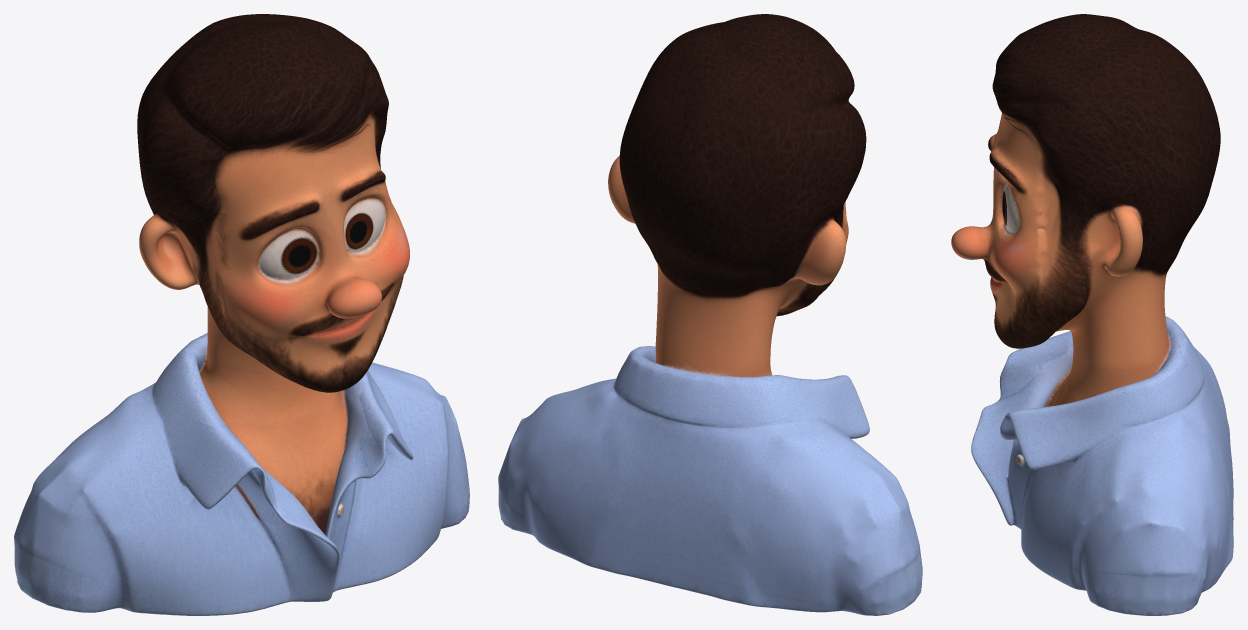
File: mohammad-character.fbx
3 views of the same model, side by side, from view 1: azimuth 30°, elevation 25°; view 2: azimuth 150°, elevation 25°; view 3: azimuth 270°, elevation 25° (orthographic). The views are drawn at different scales.
Parts seen in each view (by area): view 1: Shirt_Torso, Head_Face, Hair_SweptCap, Shirt_Collar, Neck_and_Chest, Ear_Left, Eye_Left_Surface, Eye_Right_Surface, Beard_and_Moustache, Eyebrows; view 2: Shirt_Torso, Hair_SweptCap, Head_Face, Shirt_Collar, Neck_and_Chest, Ear_Left; view 3: Shirt_Torso, Hair_SweptCap, Head_Face, Shirt_Collar, Ear_Right, Neck_and_Chest, Eye_Right_Surface.
Boxes of the visible parts, <box> form: Shirt_Torso: <box>14,362,469,615</box>; Head_Face: <box>139,114,409,388</box>; Hair_SweptCap: <box>137,14,388,201</box>; Shirt_Collar: <box>120,370,413,536</box>; Neck_and_Chest: <box>155,346,368,534</box>; Ear_Left: <box>139,204,217,299</box>; Eye_Left_Surface: <box>275,226,333,286</box>; Eye_Right_Surface: <box>344,196,384,261</box>; Beard_and_Moustache: <box>283,291,388,392</box>; Eyebrows: <box>243,172,385,239</box>; Shirt_Torso: <box>498,378,922,615</box>; Hair_SweptCap: <box>619,14,866,205</box>; Head_Face: <box>608,156,861,386</box>; Shirt_Collar: <box>574,375,869,528</box>; Neck_and_Chest: <box>616,346,827,423</box>; Ear_Left: <box>808,204,846,285</box>; Shirt_Torso: <box>971,350,1233,615</box>; Hair_SweptCap: <box>989,14,1220,196</box>; Head_Face: <box>951,113,1219,372</box>; Shirt_Collar: <box>974,333,1226,493</box>; Ear_Right: <box>1006,212,1120,318</box>; Neck_and_Chest: <box>1016,324,1202,465</box>; Eye_Right_Surface: <box>998,182,1016,239</box>.
Bounding box in the file's own units: 162 × 196 × 101.
11 materials, 11 textured.
